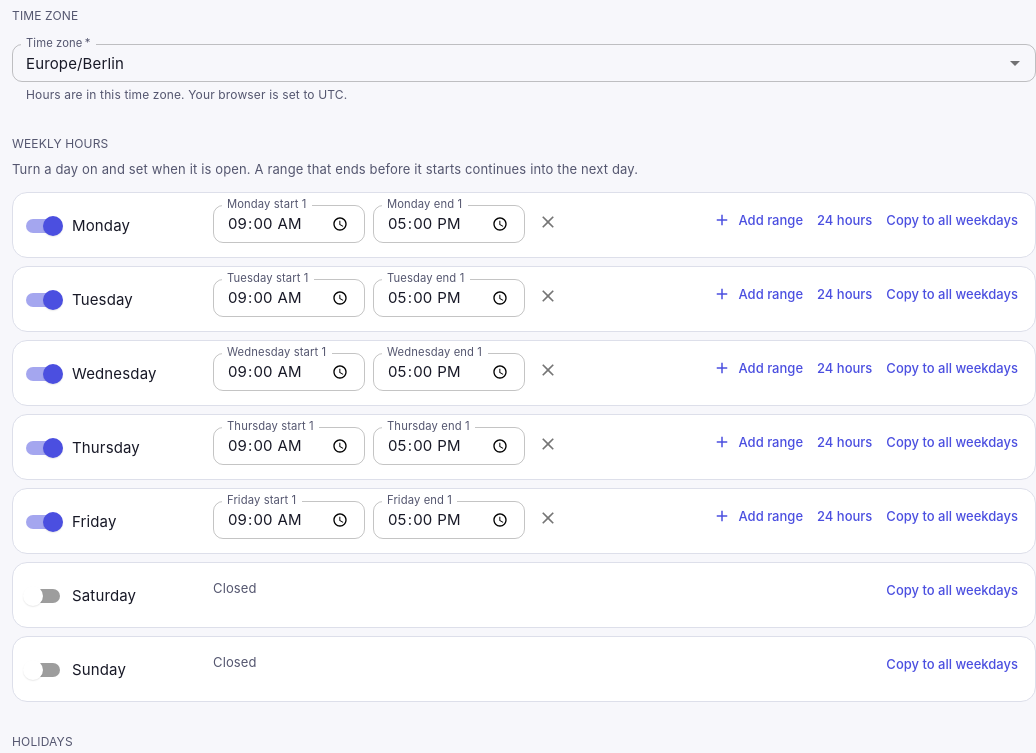
Test: BusinessHoursEditor › sets a day to 24 hours
The image size is (1036, 753).
Click the button with aria-label "Tuesday 24 hours": (845, 294) left=812, top=279, right=877, bottom=310
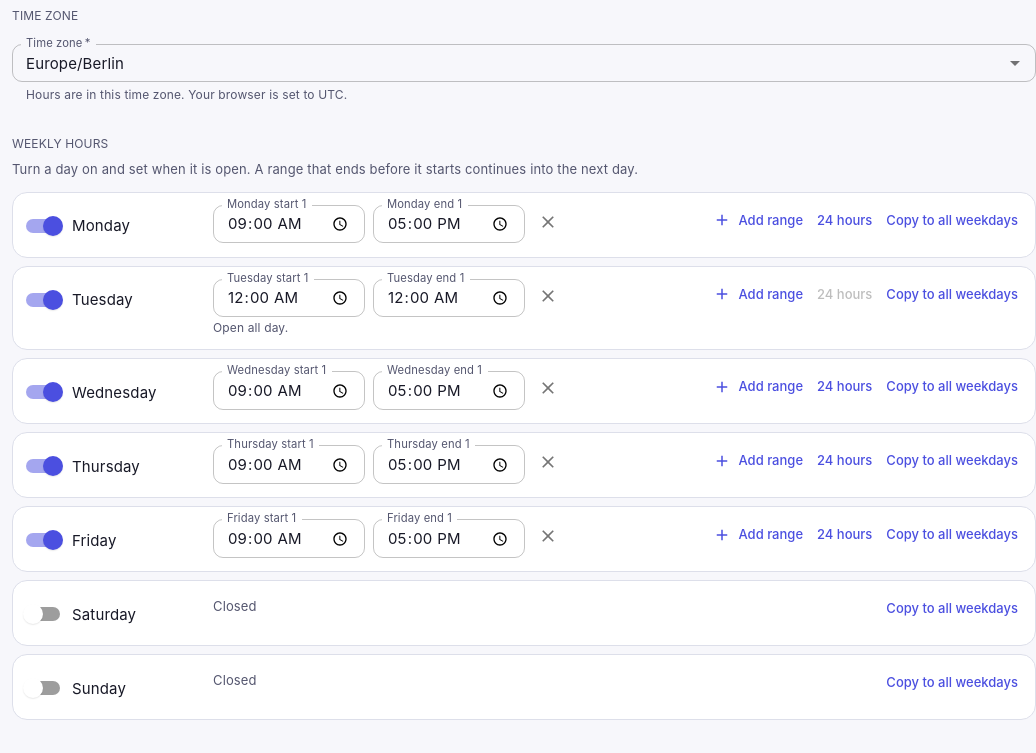
Now the time field labelled "Tuesday end 1" holds "00:00", box left=373, top=279, right=525, bottom=318
Now the text "Open all day." is shown once, box left=213, top=320, right=288, bottom=335
Now the button with aria-label "Tuesday 24 hours" is disabled, box left=812, top=279, right=877, bottom=310
